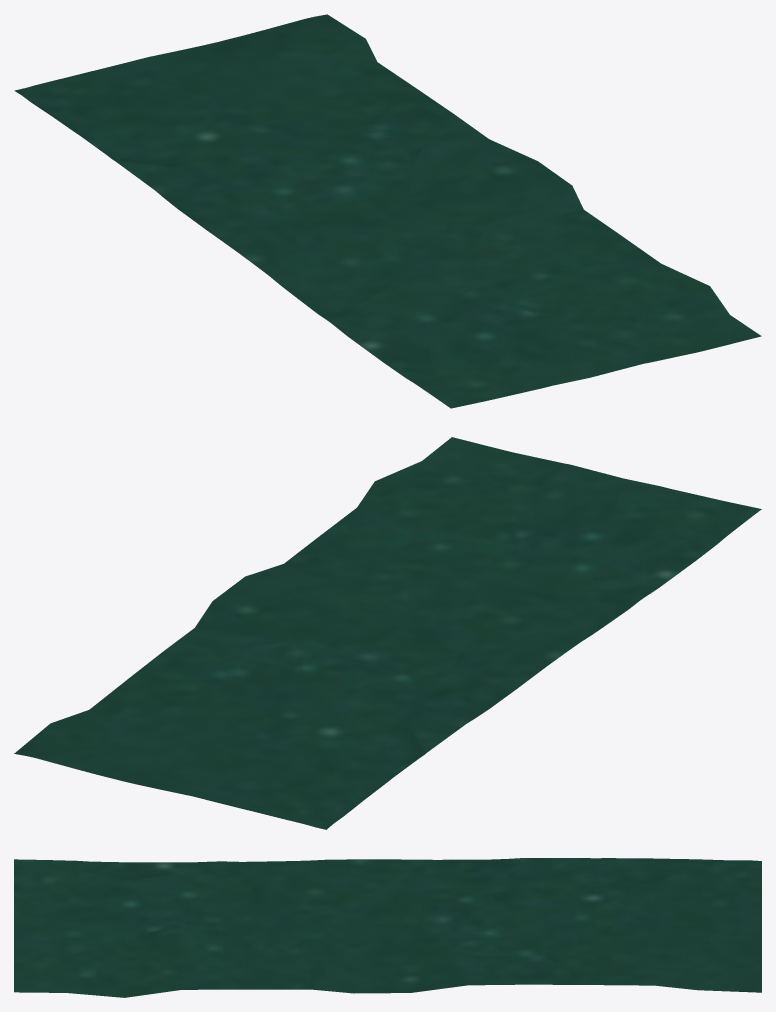
The picture shows the model from 3 angles, top to bottom: view 1: azimuth 30°, elevation 25°; view 2: azimuth 150°, elevation 25°; view 3: azimuth 270°, elevation 25°; orthographic projection. The views are drawn at different scales.
Size of the model in its own units: 22.34 by 0.4879 by 52.22.
1 material, 1 textured.
